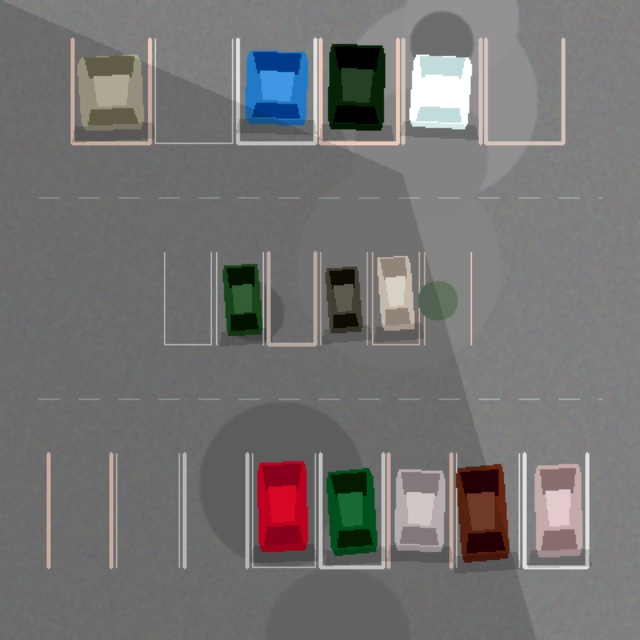space-empty: (485, 39, 563, 143), (155, 39, 232, 143), (48, 453, 111, 567), (116, 453, 179, 567), (184, 453, 247, 567), (164, 252, 211, 344), (268, 252, 315, 344), (424, 252, 471, 344)
space-occupied: (237, 39, 315, 143), (72, 39, 149, 143), (320, 39, 397, 143), (403, 39, 480, 143), (252, 453, 315, 567), (320, 453, 383, 567), (388, 453, 451, 567), (456, 453, 519, 567), (524, 453, 587, 567), (216, 252, 263, 344), (320, 252, 367, 344), (372, 252, 419, 344)
